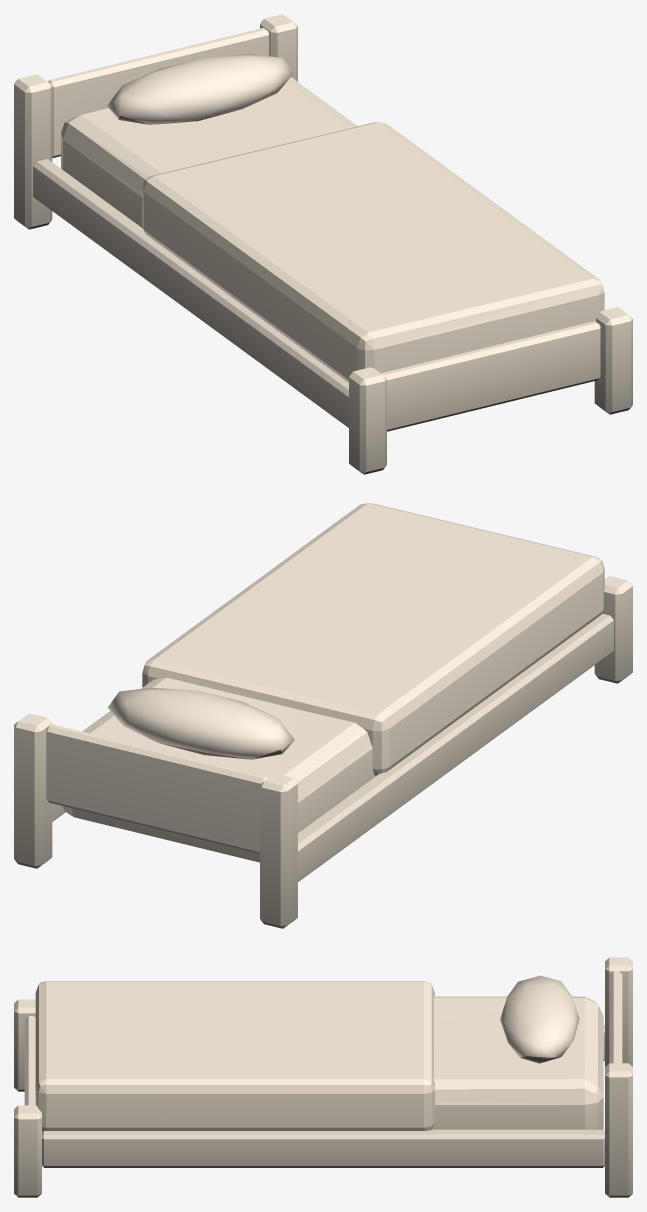
The model's file is SM_VKI_Prop_Bed_Straw.fbx.
3 renders of one model, top to bottom at view 1: azimuth 30°, elevation 25°; view 2: azimuth 150°, elevation 25°; view 3: azimuth 270°, elevation 25°, orthographic. The views are drawn at different scales.
Parts seen in each view (by area): view 1: SM_VKI_Prop_Bed_Straw.001; view 2: SM_VKI_Prop_Bed_Straw.001; view 3: SM_VKI_Prop_Bed_Straw.001.
Boxes of the visible parts, x1=… form: SM_VKI_Prop_Bed_Straw.001: x1=14, y1=14, x2=632, y2=474; SM_VKI_Prop_Bed_Straw.001: x1=14, y1=503, x2=632, y2=928; SM_VKI_Prop_Bed_Straw.001: x1=14, y1=957, x2=632, y2=1197.
Size of the model in its own units: 0.9 by 0.5058 by 2.
